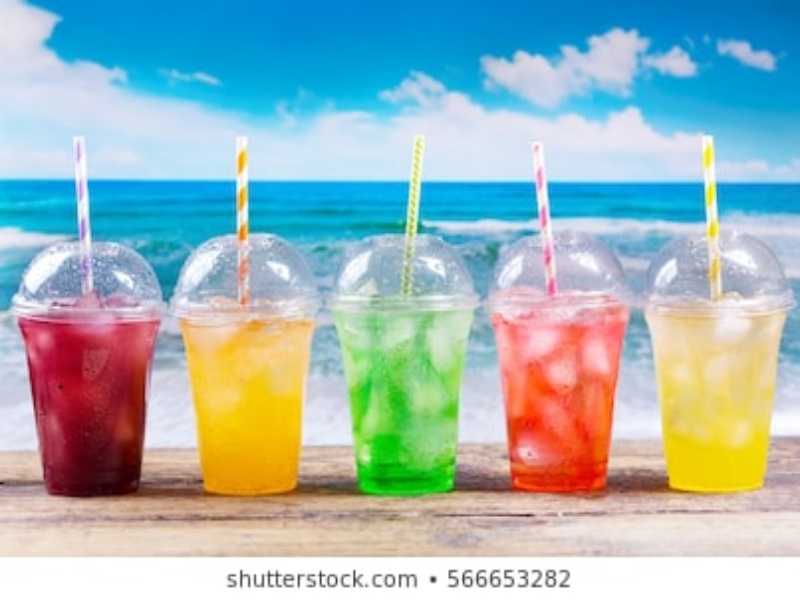plastic-cup: (11, 238, 178, 500), (643, 230, 795, 497), (487, 229, 635, 497), (175, 228, 321, 498), (333, 230, 473, 496)
straw: (69, 136, 109, 303), (527, 138, 566, 300), (398, 131, 433, 296), (230, 133, 262, 310), (697, 133, 727, 300)
